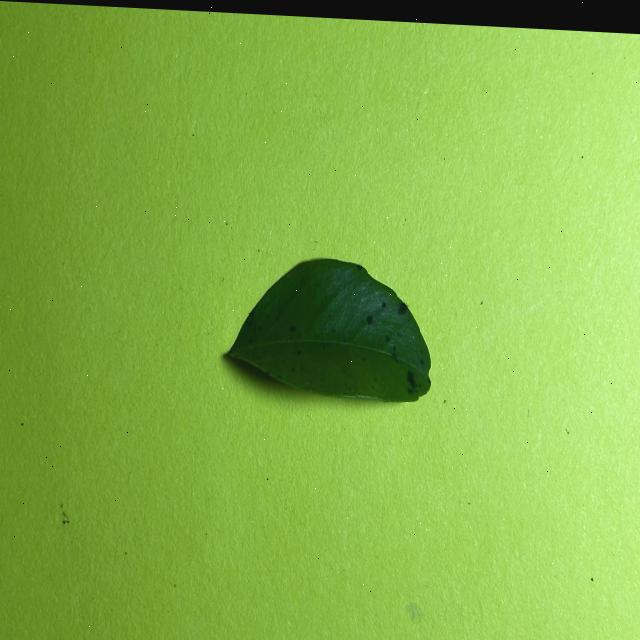sooty_mold: (229, 258, 430, 401)
